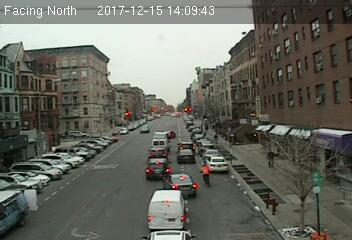bicycle: (199, 160, 212, 186)
car: (163, 172, 196, 197), (146, 158, 168, 181), (205, 155, 229, 172), (176, 149, 195, 165), (146, 146, 167, 158), (178, 141, 195, 150)
pedestrian: (265, 151, 277, 169)
truck: (1, 187, 32, 235), (147, 190, 185, 228), (152, 131, 168, 146)
